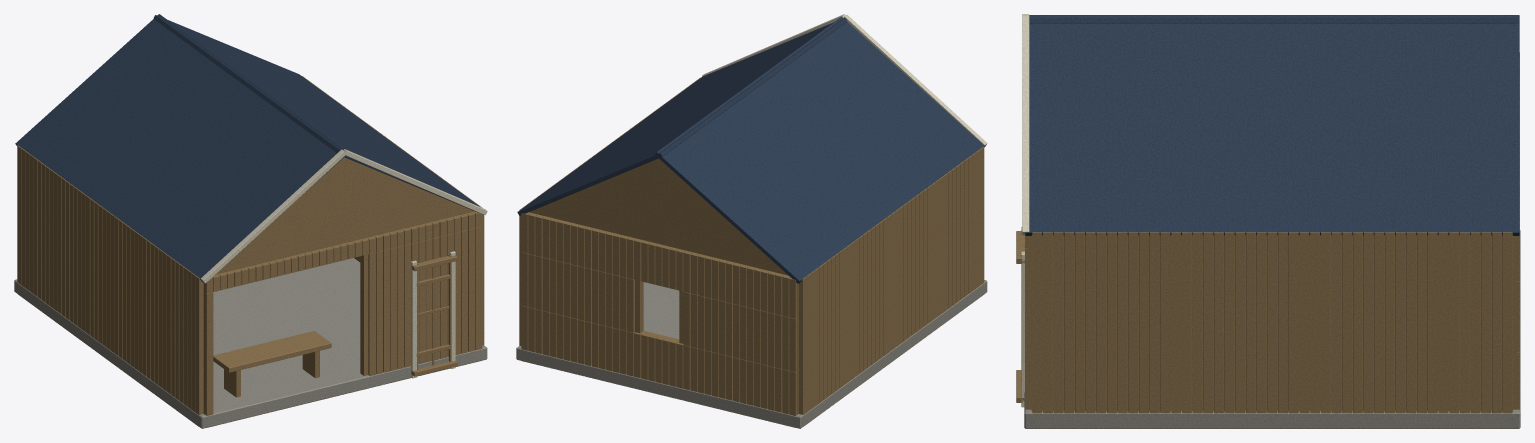
File: CARWASH2_lod1.glb
The picture shows the model from 3 angles, left to right: view 1: azimuth 30°, elevation 25°; view 2: azimuth 150°, elevation 25°; view 3: azimuth 270°, elevation 25°; orthographic projection. The views are drawn at different scales.
Parts seen in each view (by area): view 1: CARWASH2_LOD1; view 2: CARWASH2_LOD1; view 3: CARWASH2_LOD1.
Part boxes in pixels (box(x1,y1,x2,y2)): CARWASH2_LOD1: box(14, 14, 487, 428); CARWASH2_LOD1: box(516, 14, 987, 428); CARWASH2_LOD1: box(1016, 14, 1520, 428).
Size of the model in its own units: 7.25 by 5.91 by 8.38.
Materials: 8 (6 with a texture image).
